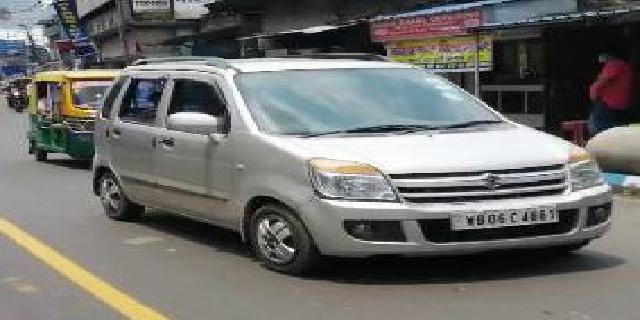Autorickshaw: (20, 69, 114, 166)
Car: (87, 46, 615, 283)
